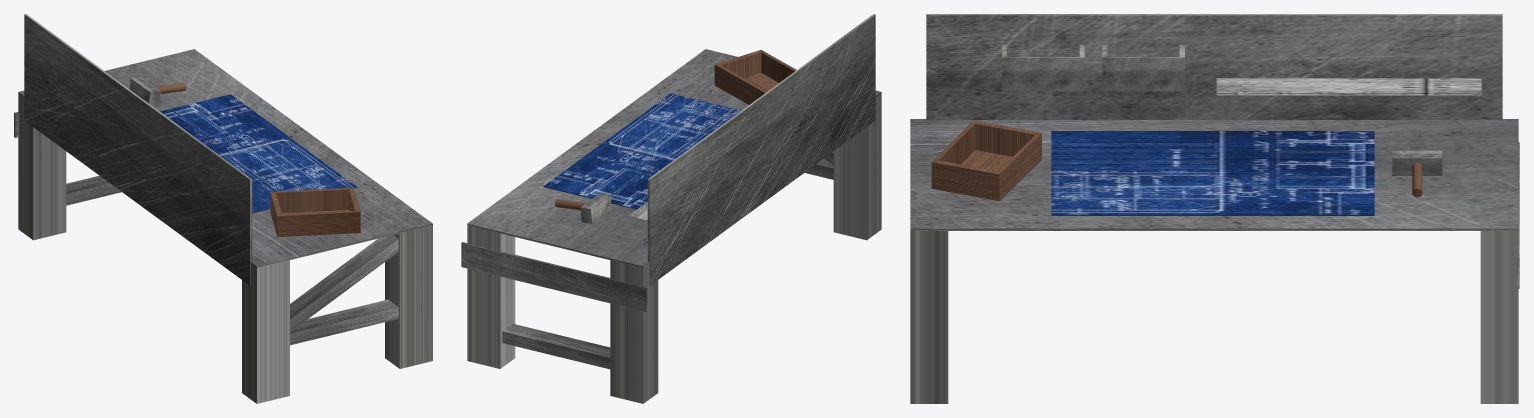
The model's file is WorkBench.fbx.
The picture shows the model from 3 angles, left to right: view 1: azimuth 30°, elevation 25°; view 2: azimuth 150°, elevation 25°; view 3: azimuth 270°, elevation 25°; orthographic projection. The views are drawn at different scales.
Parts seen in each view (by area): view 1: Cube.001; view 2: Cube.001; view 3: Cube.001.
Part boxes in pixels (x1,y1,x2,y2): Cube.001: (14, 14, 432, 403); Cube.001: (461, 14, 881, 403); Cube.001: (910, 14, 1519, 403).
Size of the model in its own units: 106 by 119 by 235.
Materials: 13 (13 with a texture image).
